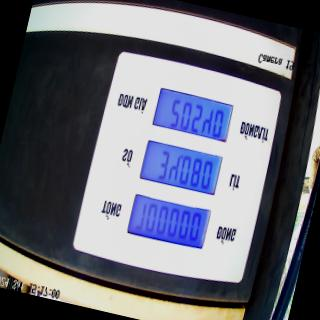screen: (124, 83, 238, 253)
